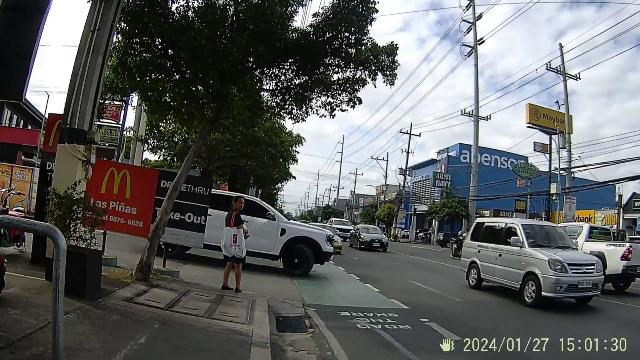utility_post: (542, 42, 584, 219), (458, 1, 492, 216), (396, 118, 424, 207), (368, 150, 390, 204)
